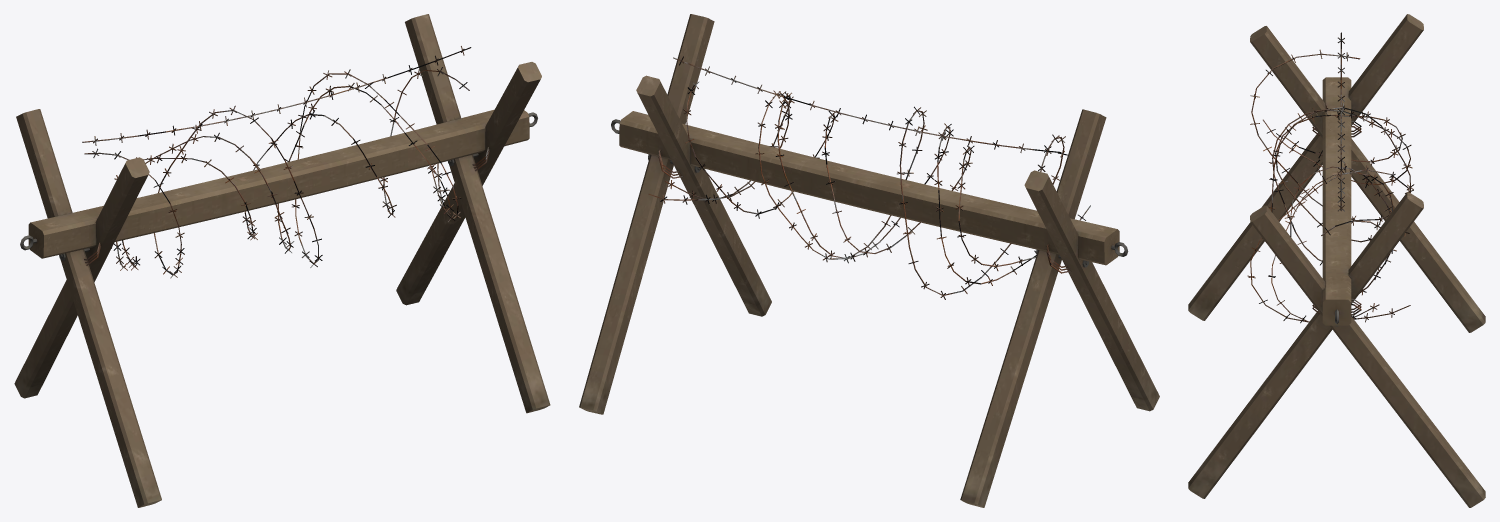
Rendered from knife_rest_end.glb.
3 views of the same model, side by side, from view 1: azimuth 30°, elevation 25°; view 2: azimuth 150°, elevation 25°; view 3: azimuth 270°, elevation 25° (orthographic). The views are drawn at different scales.
Parts seen in each view (by area): view 1: knife_rest_end; view 2: knife_rest_end; view 3: knife_rest_end.
Part boxes in pixels (x1,y1,x2,y2): knife_rest_end: (14,14,550,507); knife_rest_end: (579,14,1159,507); knife_rest_end: (1188,14,1485,507).
Bounding box in the file's own units: 2.56 × 1.5 × 1.36.
2 materials, 2 textured.
